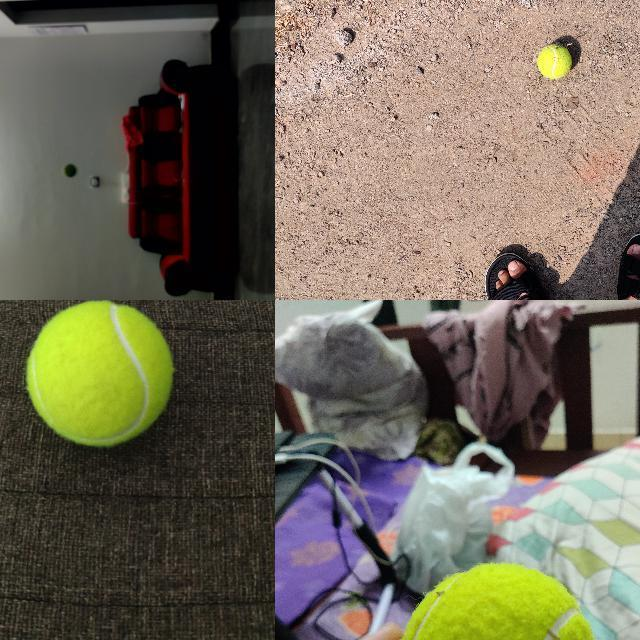tennis-ball: (25, 300, 173, 446), (398, 561, 598, 639), (537, 44, 571, 78), (61, 164, 76, 178)
